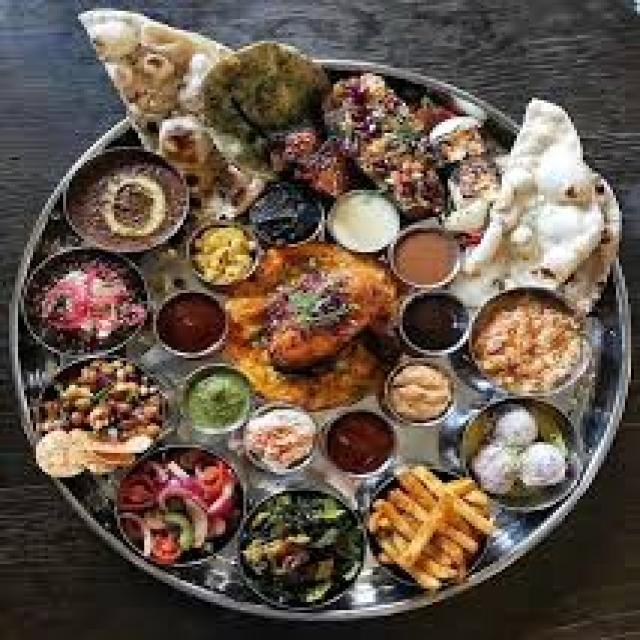curd: (453, 393, 591, 512)
papad: (195, 36, 331, 145)
raita: (457, 392, 587, 513), (323, 187, 408, 251)
rice: (197, 33, 332, 146)
roti: (365, 463, 499, 587), (193, 37, 326, 152), (90, 14, 210, 121)
sambar-rasam: (384, 228, 472, 288), (150, 294, 233, 354)
sweet: (53, 147, 192, 257), (27, 257, 147, 350), (321, 409, 405, 482), (381, 360, 461, 429), (238, 410, 320, 475), (152, 293, 233, 355)
